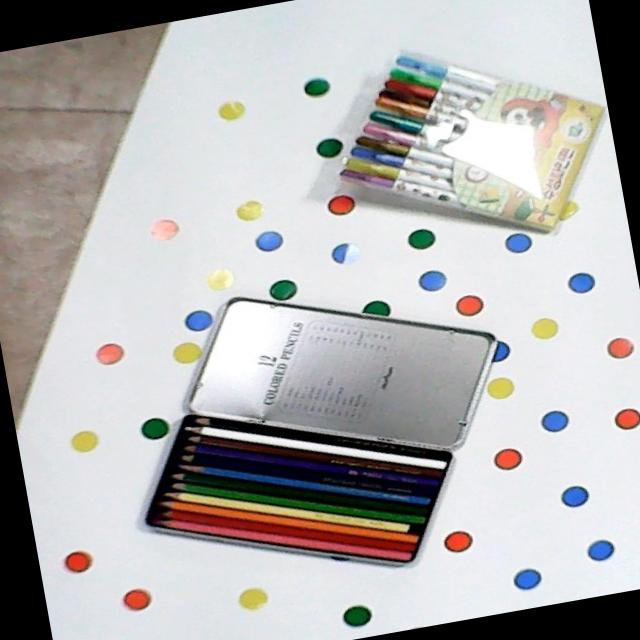color: (133, 407, 461, 572)
signpen: (323, 46, 607, 244)
